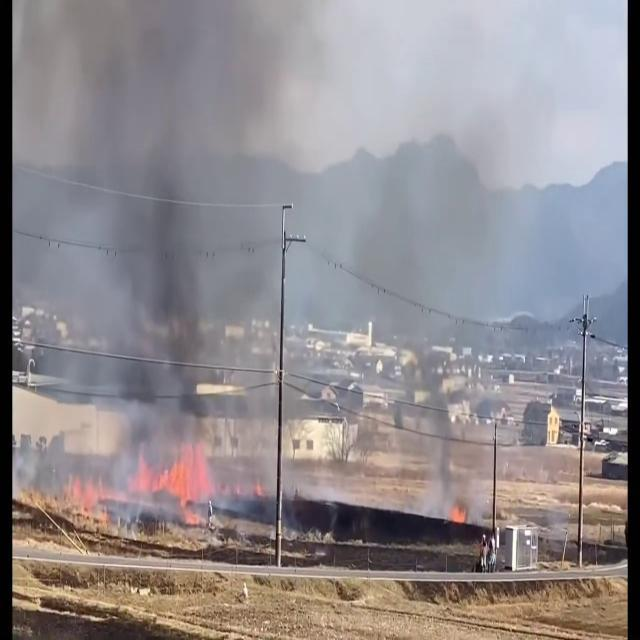Fire: (134, 434, 212, 517)
Smoke: (13, 1, 304, 552), (332, 0, 544, 515)
